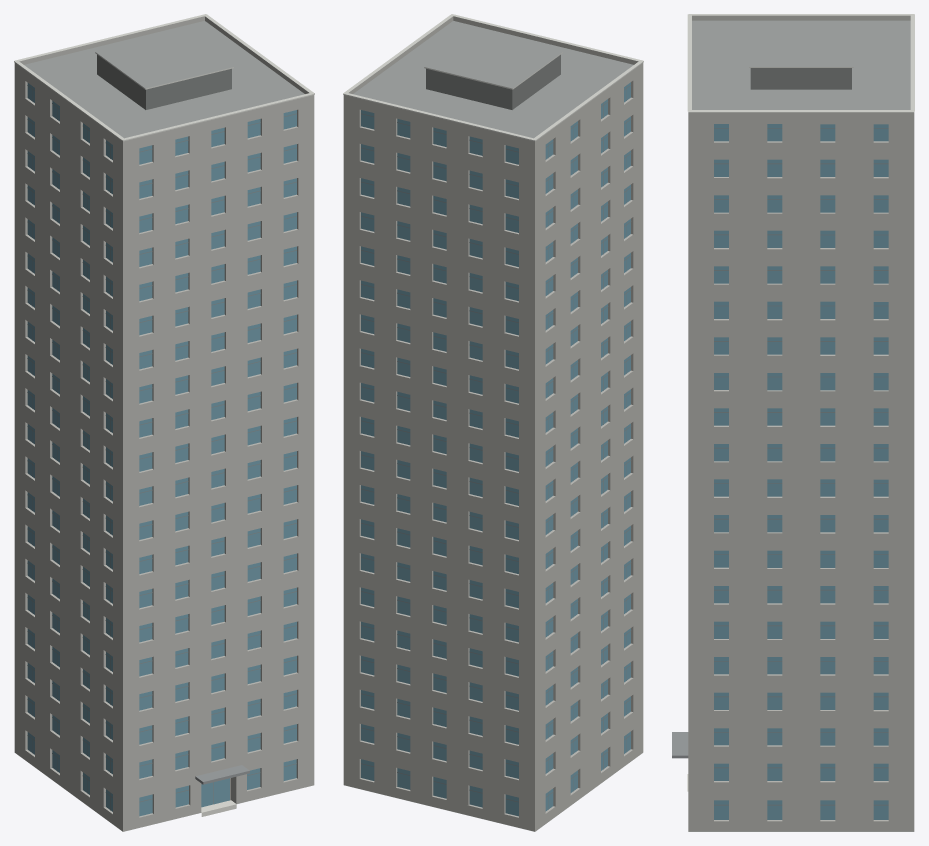
The picture shows the model from 3 angles, left to right: view 1: azimuth 30°, elevation 25°; view 2: azimuth 150°, elevation 25°; view 3: azimuth 270°, elevation 25°; orthographic projection. The views are drawn at different scales.
Visible parts, largest first — view 1: unist-batch-b301__parapet, b301__glass, b301__frame, b301__trim; view 2: unist-batch-b301__parapet, b301__glass, b301__frame, b301__trim; view 3: unist-batch-b301__parapet, b301__glass, b301__trim, b301__frame.
Boxes of the visible parts, x1=… form: unist-batch-b301__parapet: x1=14, y1=16, x2=314, y2=831; b301__glass: x1=27, y1=83, x2=296, y2=816; b301__frame: x1=27, y1=85, x2=296, y2=810; b301__trim: x1=14, y1=14, x2=314, y2=141; unist-batch-b301__parapet: x1=343, y1=16, x2=643, y2=831; b301__glass: x1=361, y1=82, x2=630, y2=816; b301__frame: x1=361, y1=85, x2=631, y2=809; b301__trim: x1=343, y1=14, x2=643, y2=141; unist-batch-b301__parapet: x1=688, y1=15, x2=914, y2=831; b301__glass: x1=714, y1=124, x2=888, y2=819; b301__trim: x1=687, y1=14, x2=914, y2=112; b301__frame: x1=714, y1=128, x2=888, y2=805.
Size of the model in its own units: 19.79 by 70.05 by 20.75.
